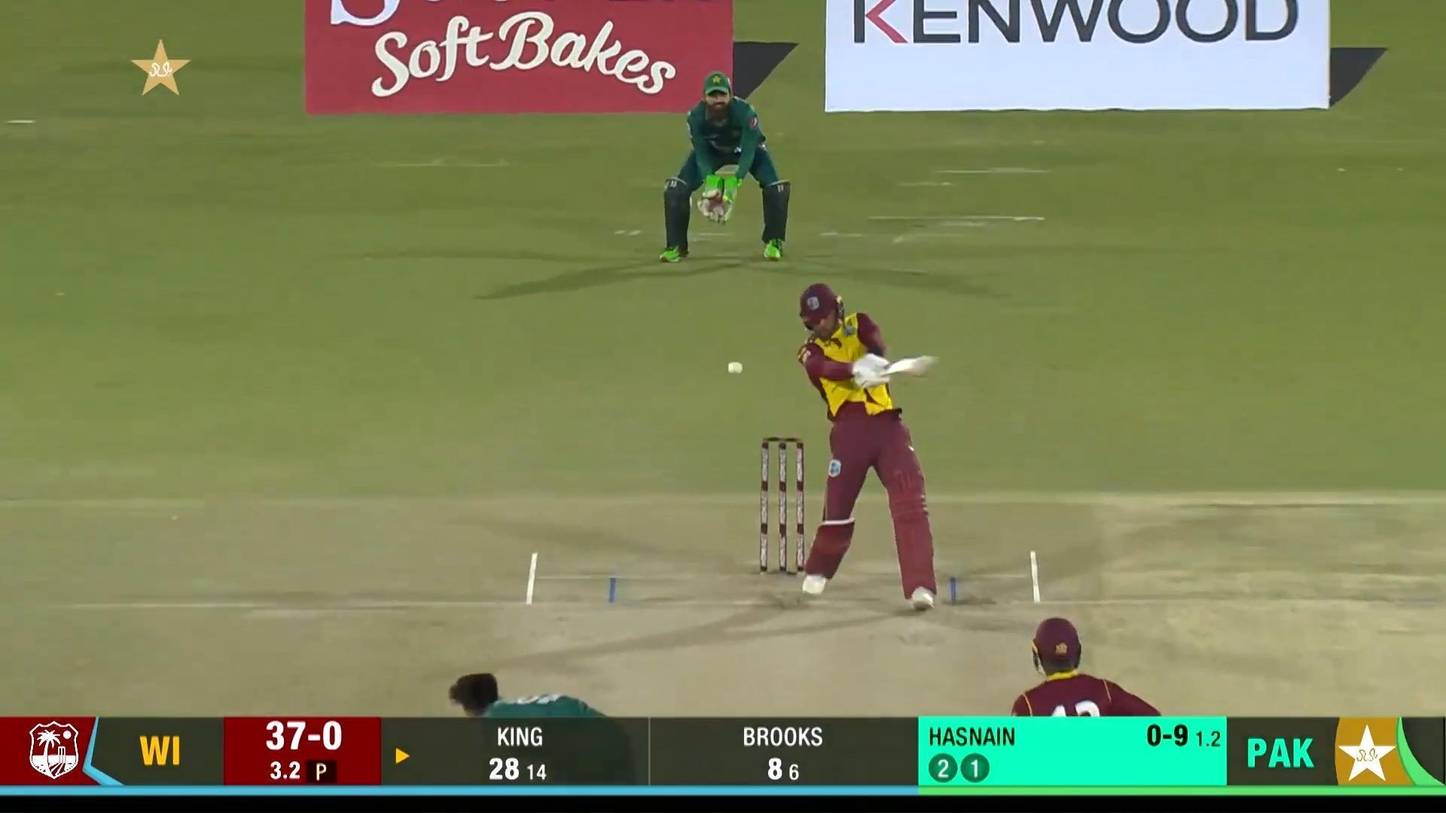BM 1: (798, 284, 939, 613)
BO: (450, 672, 607, 718)
